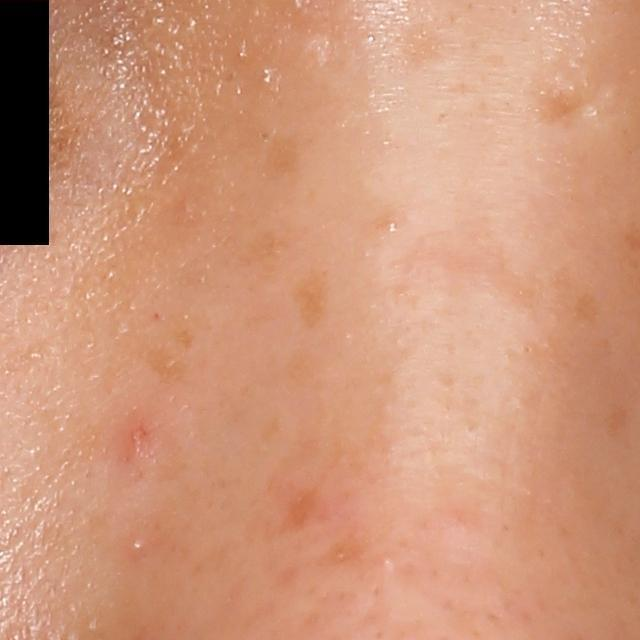comedo: (130, 537, 145, 550)
melasma: (137, 337, 190, 397), (286, 266, 334, 332), (237, 221, 299, 271), (269, 127, 308, 183)
papule: (128, 422, 151, 451)
